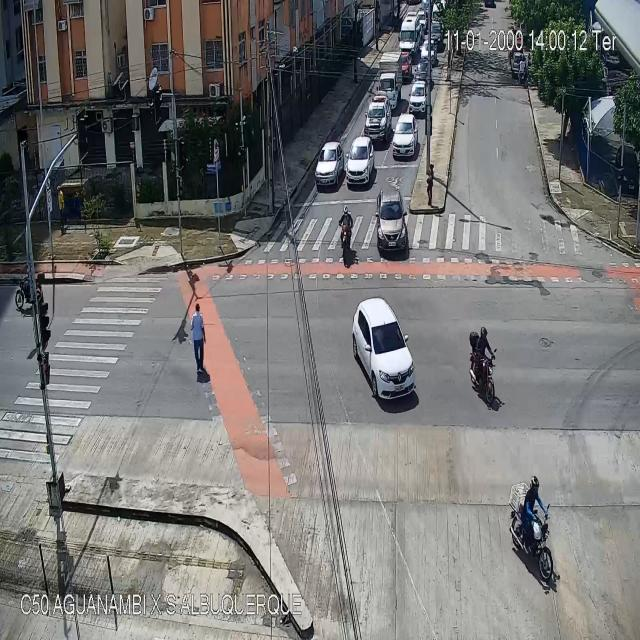Car: (350, 294, 418, 403), (376, 189, 408, 258), (347, 137, 375, 186), (316, 139, 344, 187), (392, 114, 418, 162), (364, 98, 389, 139), (398, 14, 423, 54), (409, 79, 429, 114), (399, 50, 414, 84), (414, 60, 431, 88), (419, 39, 436, 65), (430, 20, 444, 50), (512, 51, 526, 78)
Motorcycle: (510, 477, 555, 580), (466, 325, 498, 406), (15, 263, 45, 308), (339, 206, 354, 268), (518, 58, 526, 88)
Truck: (378, 53, 403, 106)
